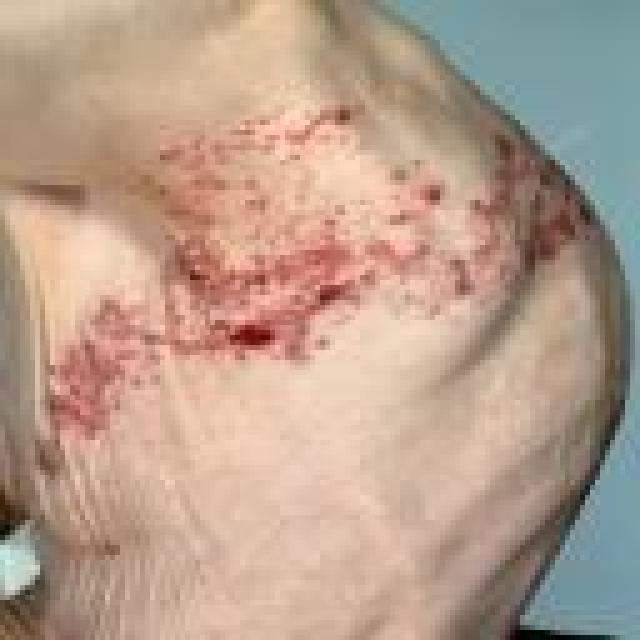Shingles: (42, 106, 594, 442)
